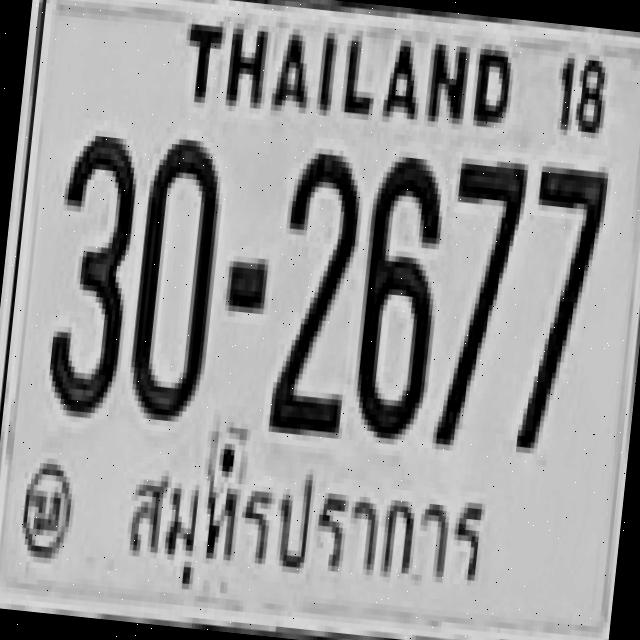0: (124, 133, 226, 421)
2: (266, 148, 366, 436)
3: (40, 127, 143, 415)
6: (348, 152, 448, 438)
7: (428, 152, 526, 450), (511, 160, 606, 452)
SamutPrakan: (107, 453, 509, 616)
